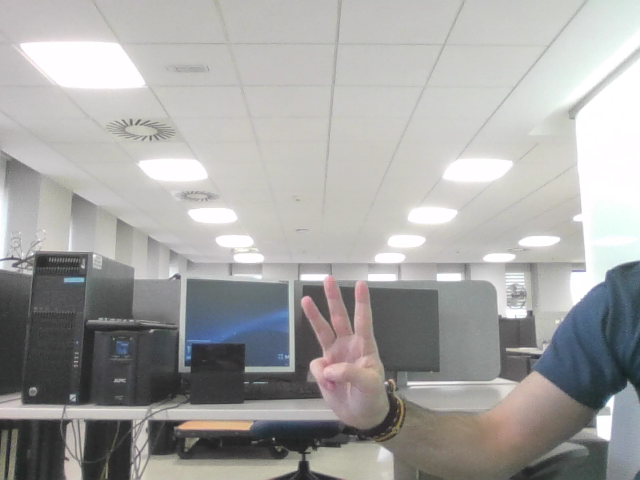3Dedos: (310, 288, 369, 397)
